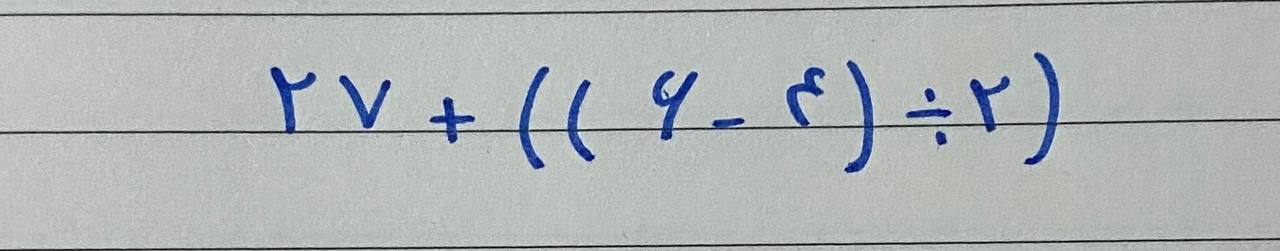character: (1030, 53, 1060, 160), (269, 66, 316, 134), (652, 68, 696, 137), (520, 63, 548, 167), (846, 56, 871, 170), (907, 86, 953, 145), (341, 71, 388, 127), (786, 64, 826, 127), (970, 75, 1009, 130), (569, 78, 594, 161), (429, 94, 475, 139), (710, 116, 745, 127)
